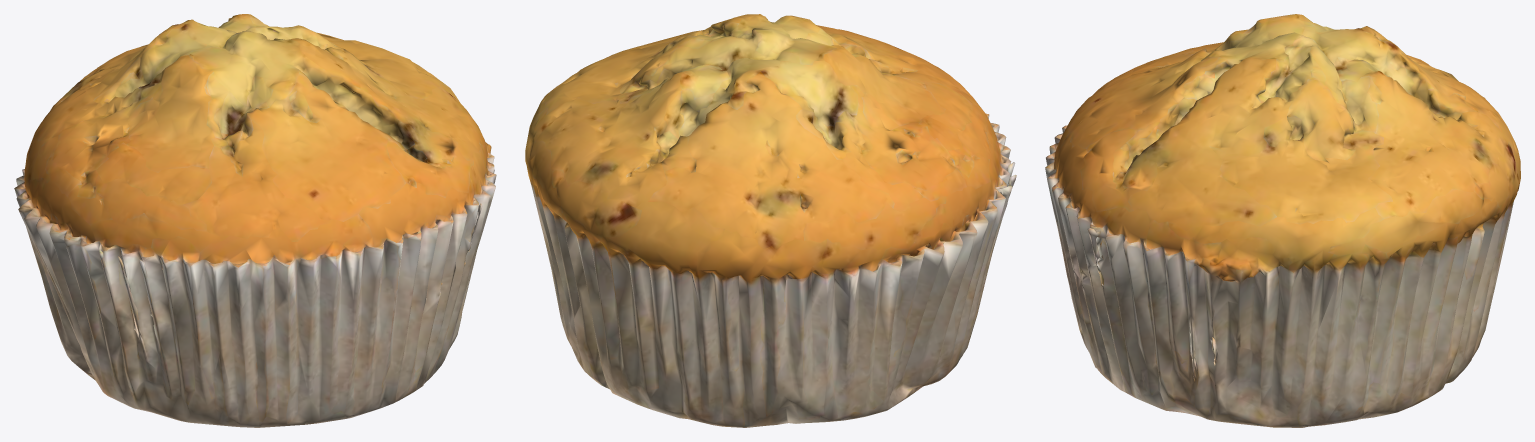
The model's file is cake.glb.
The picture shows the model from 3 angles, left to right: view 1: azimuth 30°, elevation 25°; view 2: azimuth 150°, elevation 25°; view 3: azimuth 270°, elevation 25°; orthographic projection. The views are drawn at different scales.
Parts seen in each view (by area): view 1: cake; view 2: cake; view 3: cake.
Part boxes in pixels (x1,y1,x2,y2): cake: (14,14,496,427); cake: (525,14,1016,427); cake: (1045,14,1520,427).
Bounding box in the file's own units: 0.098 × 0.0704 × 0.0963.
1 material, 1 textured.
